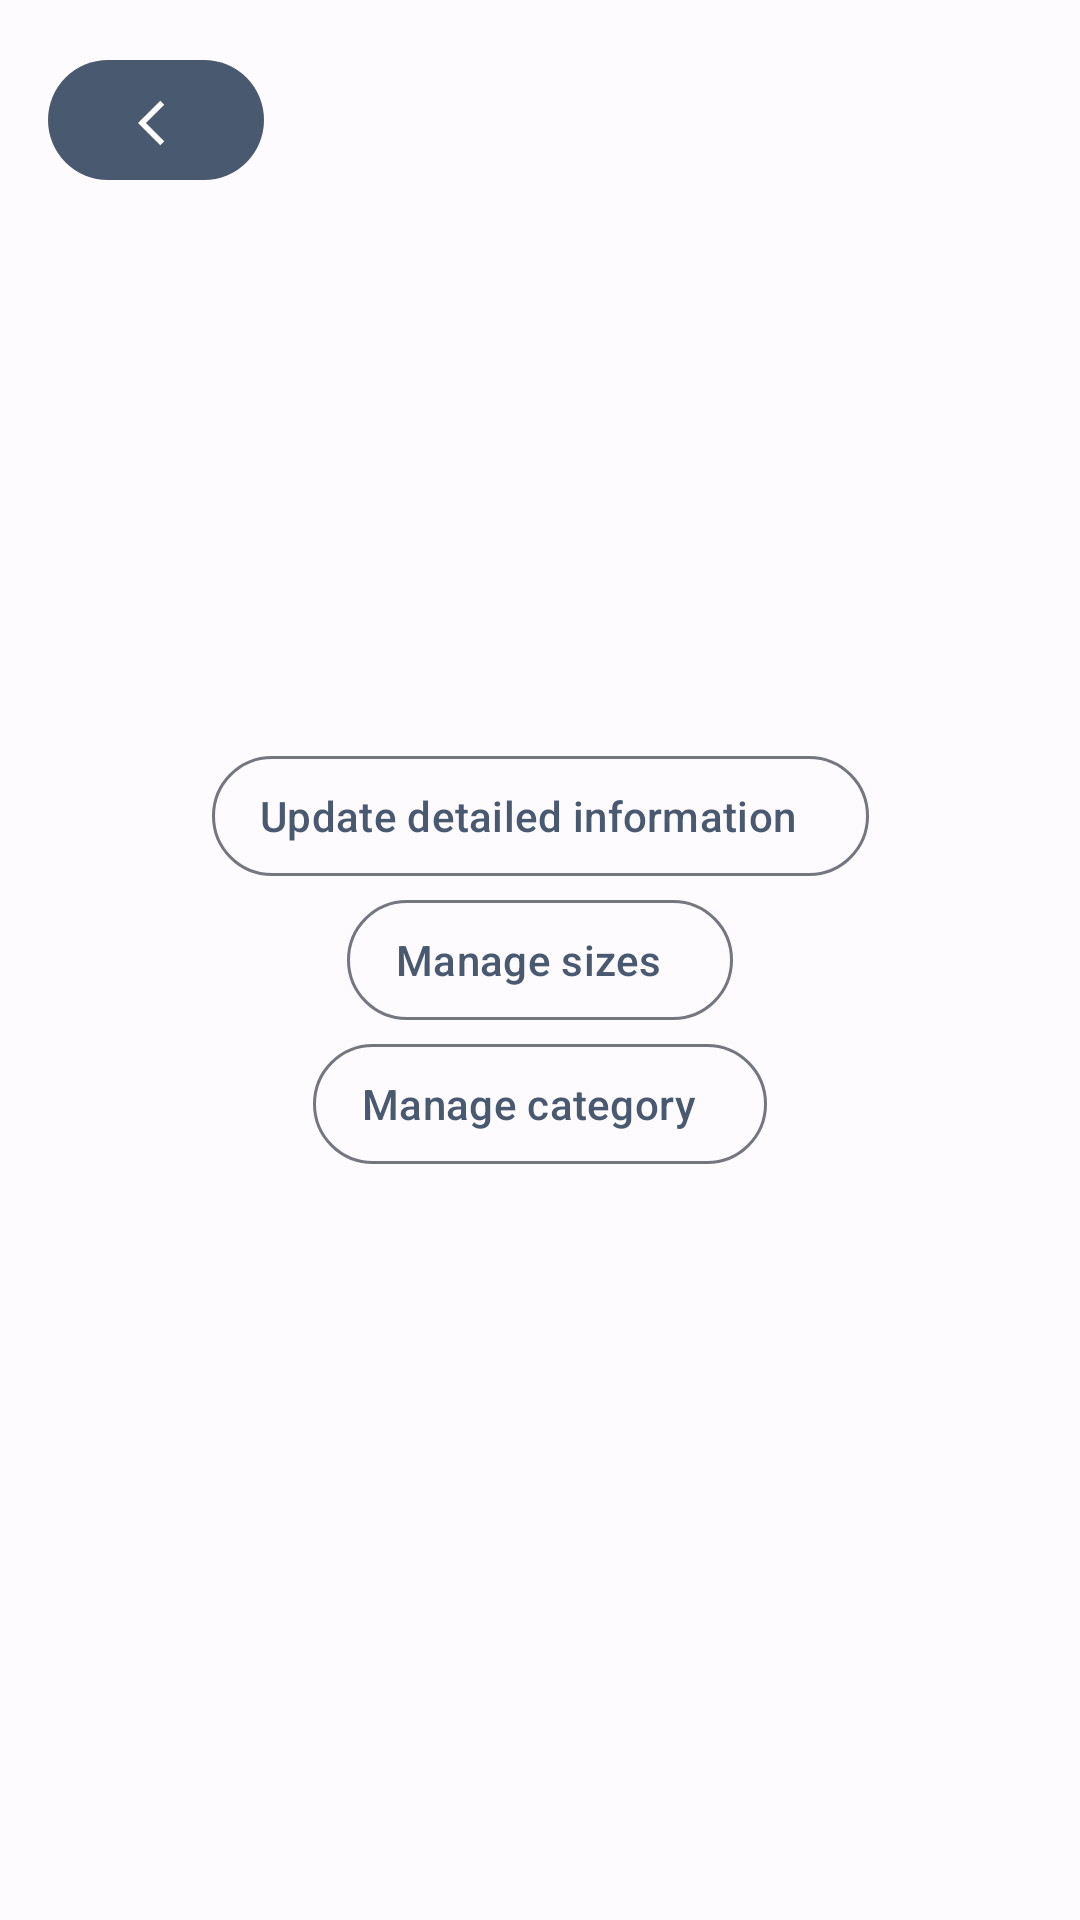

Icon bounding boxes for this 1080×1920 phone screenshot, format box=[x1, y1, x2, y2]:
back: box=[48, 60, 264, 180]
